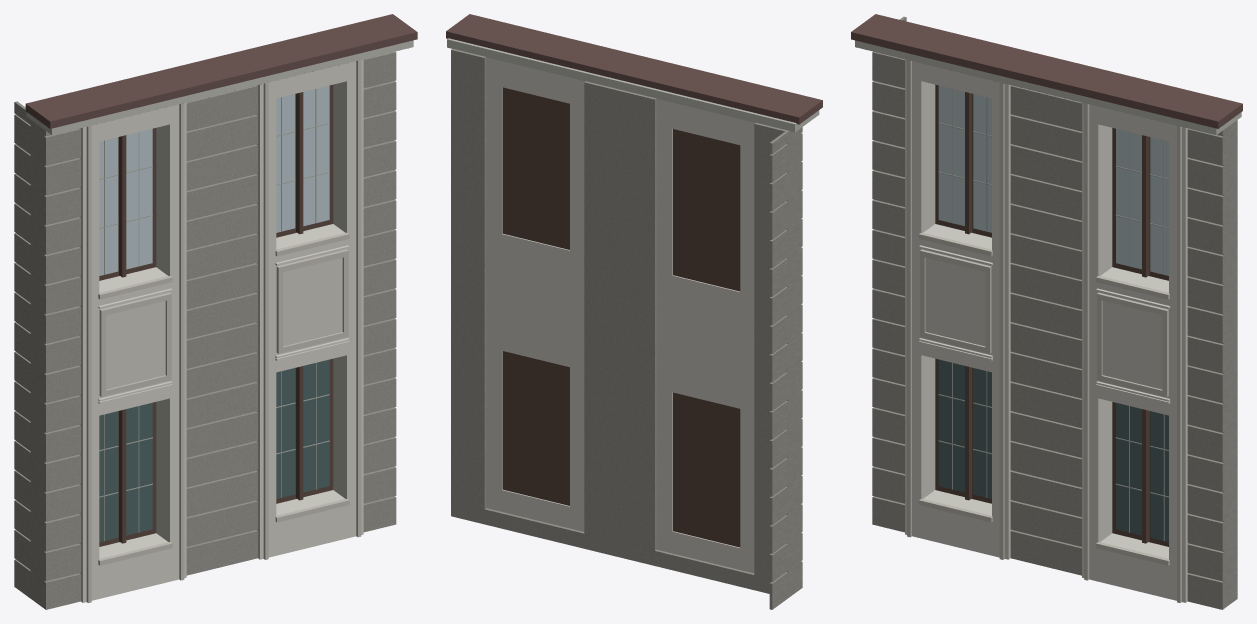
Rendered from peiming-school-paired-sash-bands-far.glb.
3 views of the same model, side by side, from view 1: azimuth 30°, elevation 25°; view 2: azimuth 150°, elevation 25°; view 3: azimuth 330°, elevation 25° (orthographic). The views are drawn at different scales.
Parts seen in each view (by area): view 1: 培明中学双列深色窗与浅色窗间板; view 2: 培明中学双列深色窗与浅色窗间板; view 3: 培明中学双列深色窗与浅色窗间板.
Boxes of the visible parts, x1=… form: 培明中学双列深色窗与浅色窗间板: x1=14, y1=14, x2=417, y2=609; 培明中学双列深色窗与浅色窗间板: x1=446, y1=14, x2=822, y2=609; 培明中学双列深色窗与浅色窗间板: x1=851, y1=14, x2=1242, y2=609.
Bounding box in the file's own units: 3.9 × 5.07 × 0.813.
Materials: 10 (1 with a texture image).
